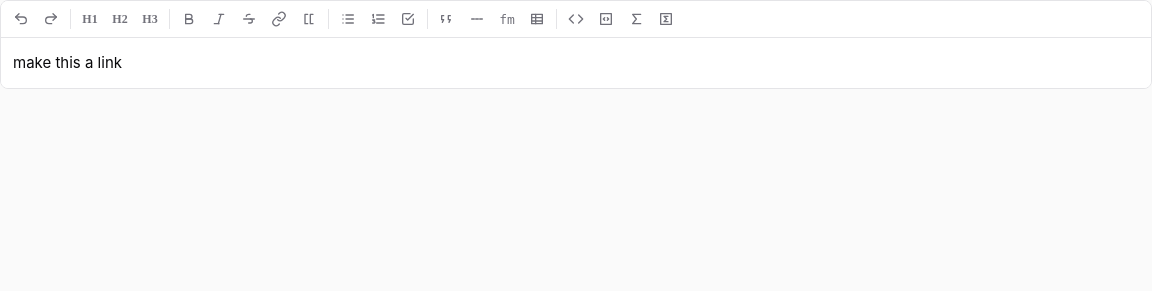
Test: selecting text and right-clicking yields an 'Add external link' flyout with an input
Right-click the field labelled "make this a link" at (68, 62), box [13, 53, 122, 72]
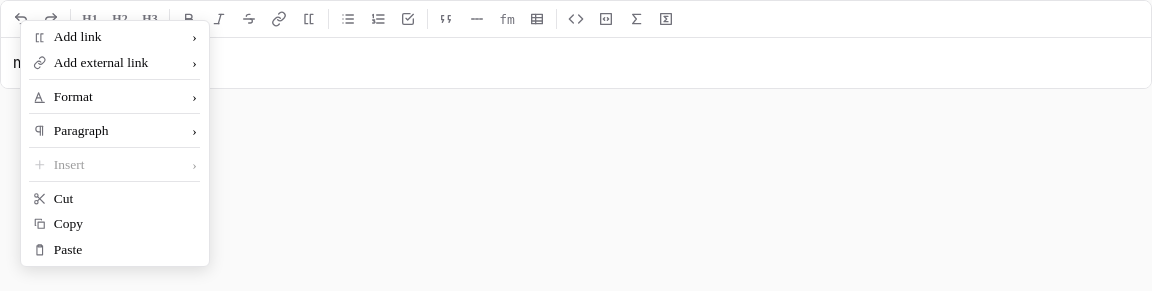
Now the element with class "cm-inplace-menu-panel" is shown, box [20, 20, 210, 267]
Now the button with class "cm-inplace-menu-item" showing "Add external link" is shown
Hover over the button with class "cm-inplace-menu-item" showing "Add external link" at (115, 63), box [25, 50, 205, 76]
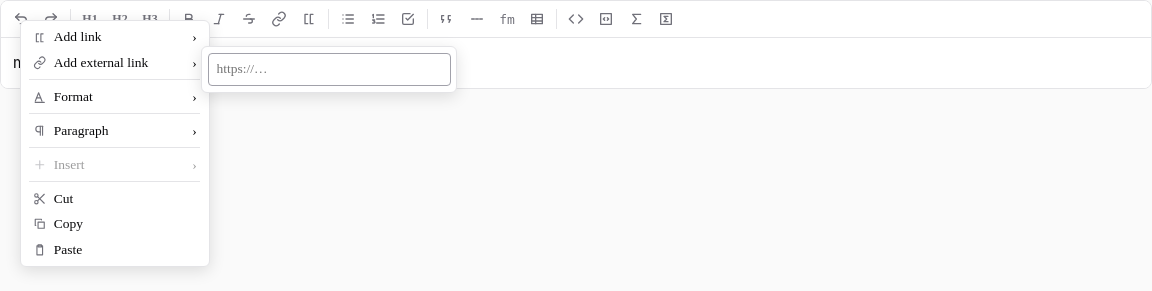
Now the field with class "cm-inplace-menu-input" is shown, box [208, 53, 450, 86]
